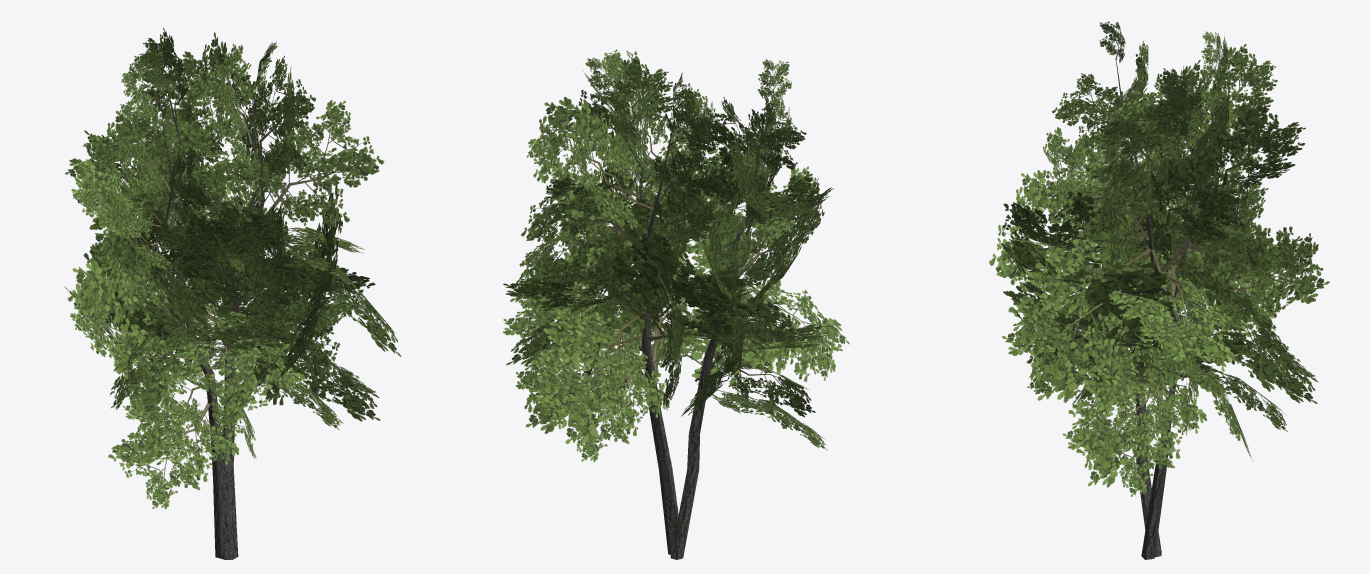
Rendered from tree2.glb.
3 renders of one model, left to right at view 1: azimuth 30°, elevation 25°; view 2: azimuth 150°, elevation 25°; view 3: azimuth 270°, elevation 25°, orthographic.
Parts seen in each view (by area): view 1: Tree-03-2; view 2: Tree-03-2; view 3: Tree-03-2.
Boxes of the visible parts, <box> form: Tree-03-2: <box>64,28,401,559</box>; Tree-03-2: <box>502,49,849,559</box>; Tree-03-2: <box>988,21,1329,559</box>.
Size of the model in its own units: 6.59 by 8.68 by 6.63.
3 materials, 3 textured.
